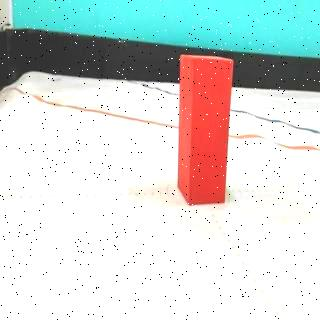redbox: (177, 56, 235, 206)
